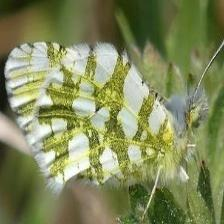butterfly: (4, 42, 209, 196)
